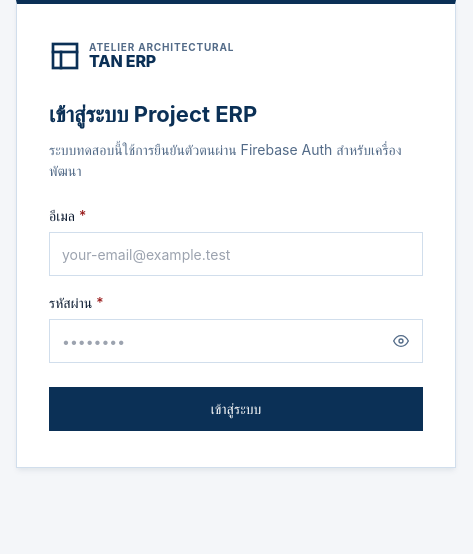
Scenario: LoginForm Component › maps unknown or non-allowlisted Firebase errors to generic localized message
In the field labelled "อีเมล *": (236, 254) [49,232,423,276], type "test@example.test"
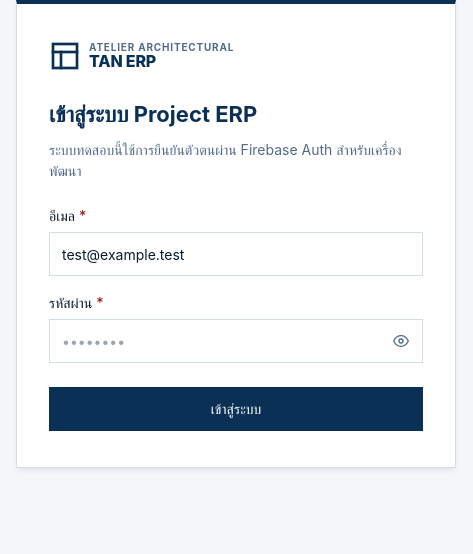
In the password field labelled "รหัสผ่าน *": (236, 341) [49,319,423,363], type "password123"
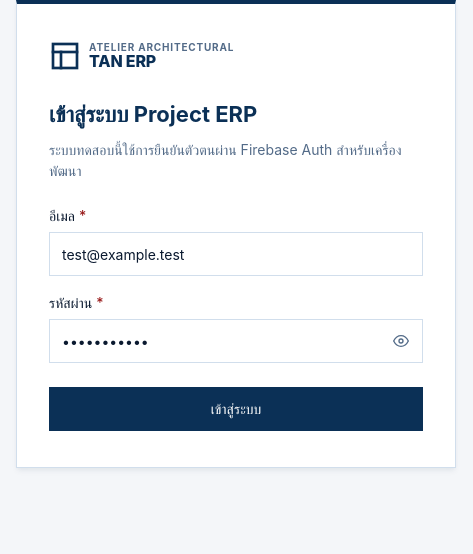
Click the button "เข้าสู่ระบบ": (236, 409) [49,387,423,431]
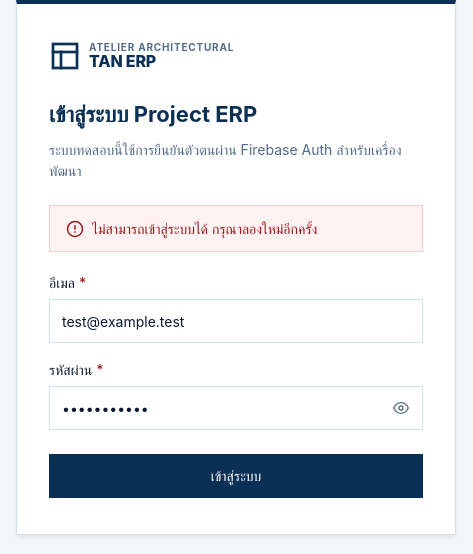
Now the message reads "ไม่สามารถเข้าสู่ระบบได้ กรุณาลองใหม่อีกครั้ง", box [92,220,318,237]
